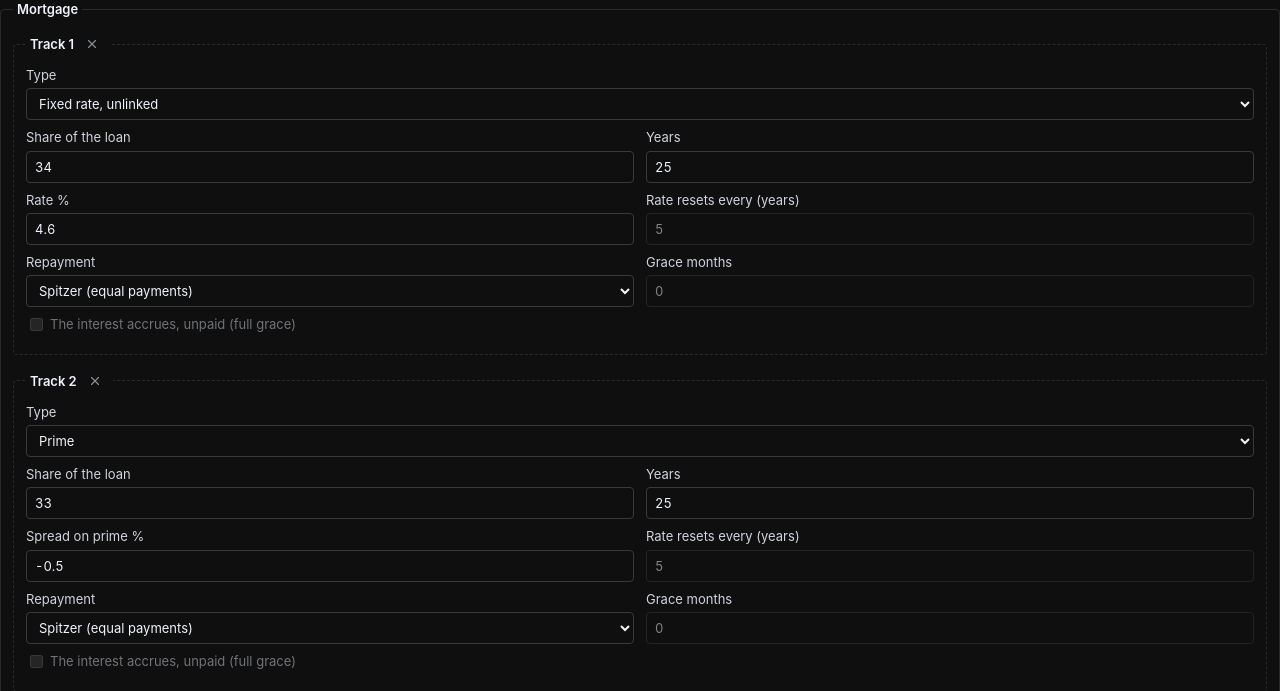
it: PlannerHomeTracks › holds up to three tracks and disables the rate assumptions on actual rates
Click the button named "Remove track 2" at (95, 381), box top-left (81, 367), bottom-right (109, 395)
(page scrolled)
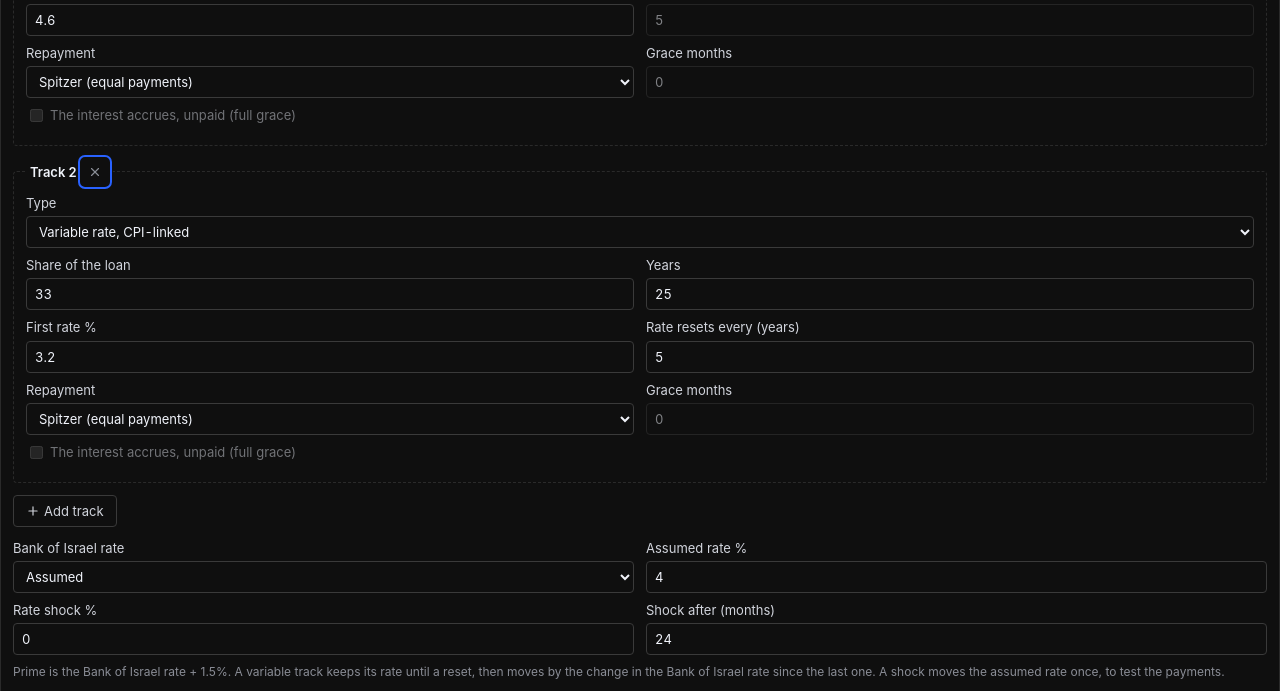
Now the button "Add track" is enabled, box top-left (13, 495), bottom-right (117, 527)
Select "Actual (Bank of Israel)" in the dropdown labelled "Bank of Israel rate" at (324, 577), box top-left (13, 561), bottom-right (634, 593)
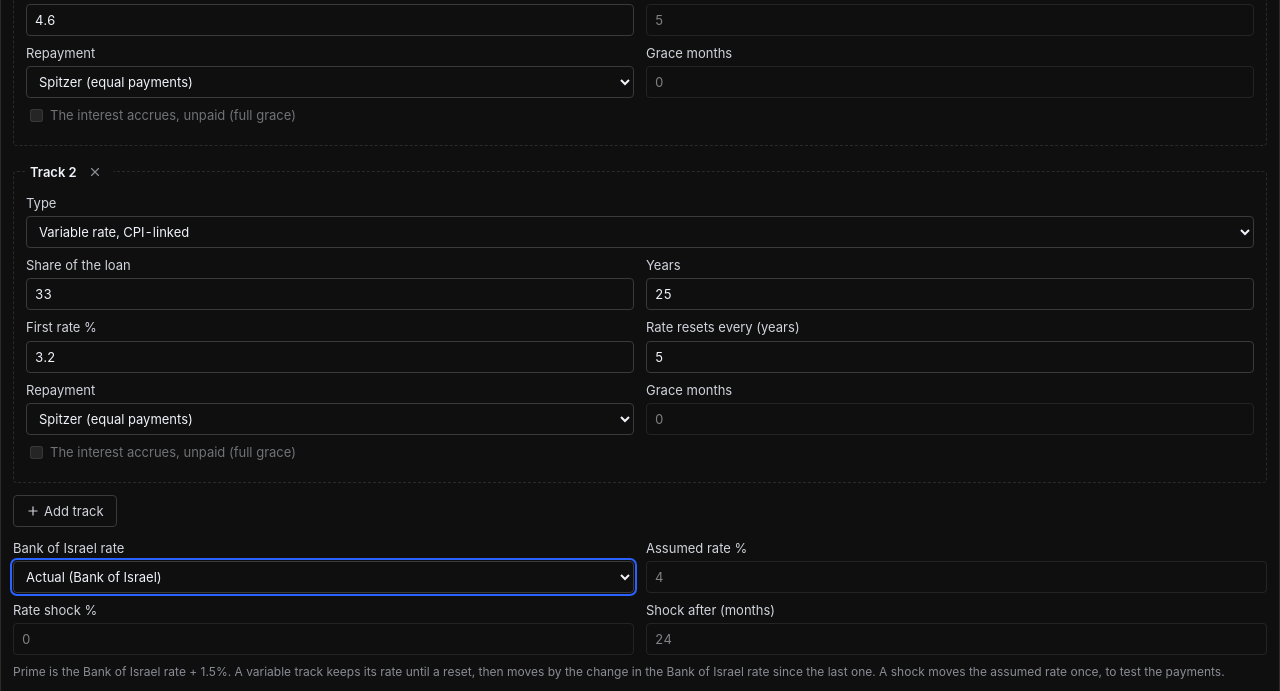
Now the number field labelled "Assumed rate %" is disabled, box top-left (646, 561), bottom-right (1267, 593)
